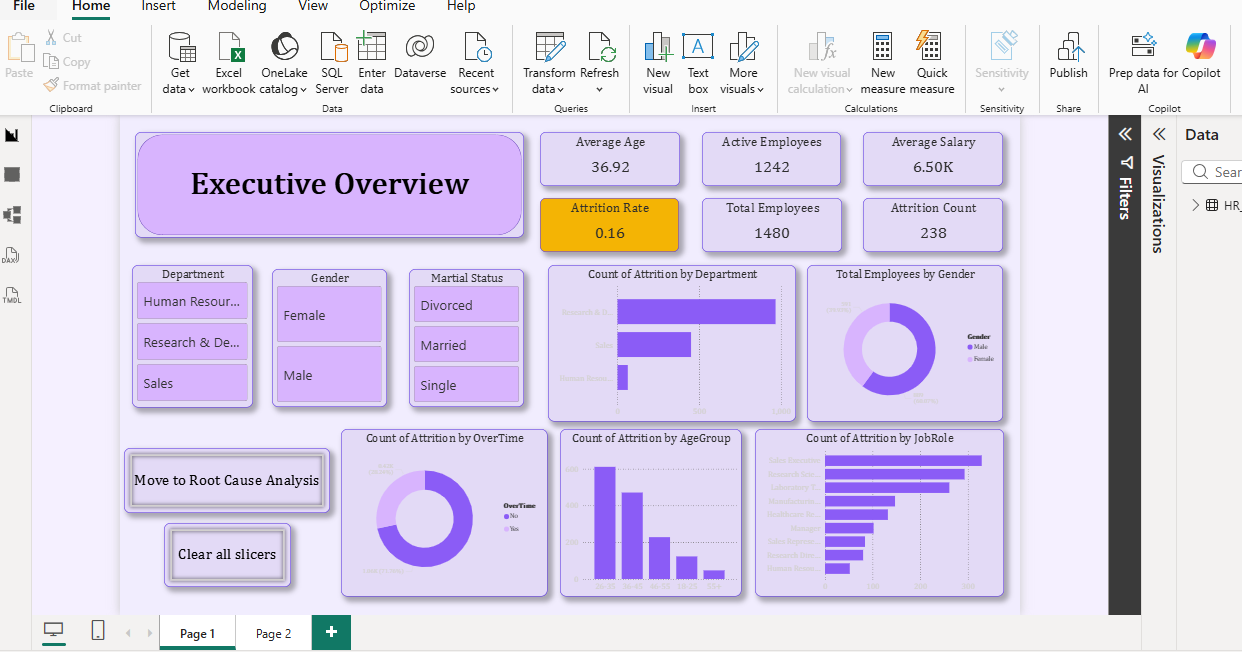

The page's visual inventory and layout, read from the dashboard file:
{"tool":"powerbi","page":{"name":"Page 1","canvas":[1800,1000],"ordinal":0},"visuals":[{"type":"card","title":"Total Employees","fields":{"Values":["HR_Analytics.Total Employees"]},"box":[1164.6,166.7,280.5,107.7],"z":0},{"type":"card","title":"Average Salary","fields":{"Values":["HR_Analytics.Average Salary"]},"box":[1485.8,34.6,280.5,107.7],"z":1000},{"type":"card","title":"Average Age","fields":{"Values":["HR_Analytics.Average Age"]},"box":[839.4,34.6,280.5,107.7],"z":2000},{"type":"card","title":"Attrition Rate","fields":{"Values":["HR_Analytics.Attrition Rate"]},"box":[839.4,166.7,278.5,107.7],"z":3000},{"type":"card","title":"Active Employees","fields":{"Values":["HR_Analytics.Active Employees"]},"box":[1164.6,34.6,278.5,107.7],"z":4000},{"type":"barChart","fields":{"Y":["CountNonNull(HR_Analytics.Attrition)"],"Category":["HR_Analytics.Department"]},"box":[855.7,300.8,495.9,313],"z":5000},{"type":"barChart","fields":{"Y":["CountNonNull(HR_Analytics.Attrition)"],"Category":["HR_Analytics.JobRole"]},"box":[1270,627.5,497.5,335],"z":6000},{"type":"clusteredColumnChart","fields":{"Y":["CountNonNull(HR_Analytics.Attrition)"],"Category":["HR_Analytics.AgeGroup"]},"box":[880,627.5,362.5,335],"z":7000},{"type":"donutChart","fields":{"Category":["HR_Analytics.OverTime"],"Y":["CountNonNull(HR_Analytics.Attrition)"]},"box":[442.5,627.5,412.5,335],"z":8000},{"type":"donutChart","fields":{"Category":["HR_Analytics.Gender"],"Y":["HR_Analytics.Total Employees"]},"box":[1374,300.8,392.3,313],"z":9000},{"type":"advancedSlicerVisual","fields":{"Values":["HR_Analytics.Gender"]},"box":[304.9,308.9,229.7,276.4],"z":10000},{"type":"advancedSlicerVisual","fields":{"Values":["HR_Analytics.Department"]},"box":[24.4,300.8,241.9,284.6],"z":11000},{"type":"advancedSlicerVisual","title":"Martial Status","fields":{"Values":["HR_Analytics.MaritalStatus"]},"box":[578,308,230,276],"z":12000},{"type":"card","title":"Attrition Count","fields":{"Values":["HR_Analytics.Attrition Count"]},"box":[1485.8,166.7,280.5,107.7],"z":13000},{"type":"shape","box":[30.5,34.6,778.5,211.4],"z":14000},{"type":"actionButton","title":"Move to ","box":[8,666,412,130],"z":15000},{"type":"actionButton","box":[87.4,815,254.1,128],"z":16000}]}

Visuals, with their boxes on the page's 1800x1000 design canvas (x1, y1, x2, y2). These are canvas units, not pixel positions in the 1242x652 screenshot, which may show the page scaled, cropped or inside an application window:
"Total Employees" card: bbox=[1165, 167, 1445, 274]
"Average Salary" card: bbox=[1486, 35, 1766, 142]
"Average Age" card: bbox=[839, 35, 1120, 142]
"Attrition Rate" card: bbox=[839, 167, 1118, 274]
"Active Employees" card: bbox=[1165, 35, 1443, 142]
barChart - CountNonNull(HR_Analytics.Attrition) x HR_Analytics.Department: bbox=[856, 301, 1352, 614]
barChart - CountNonNull(HR_Analytics.Attrition) x HR_Analytics.JobRole: bbox=[1270, 628, 1768, 962]
clusteredColumnChart - CountNonNull(HR_Analytics.Attrition) x HR_Analytics.AgeGroup: bbox=[880, 628, 1242, 962]
donutChart - HR_Analytics.OverTime x CountNonNull(HR_Analytics.Attrition): bbox=[442, 628, 855, 962]
donutChart - HR_Analytics.Gender x HR_Analytics.Total Employees: bbox=[1374, 301, 1766, 614]
advancedSlicerVisual - HR_Analytics.Gender: bbox=[305, 309, 535, 585]
advancedSlicerVisual - HR_Analytics.Department: bbox=[24, 301, 266, 585]
"Martial Status" advancedSlicerVisual: bbox=[578, 308, 808, 584]
"Attrition Count" card: bbox=[1486, 167, 1766, 274]
shape: bbox=[30, 35, 809, 246]
"Move to " actionButton: bbox=[8, 666, 420, 796]
actionButton: bbox=[87, 815, 342, 943]
